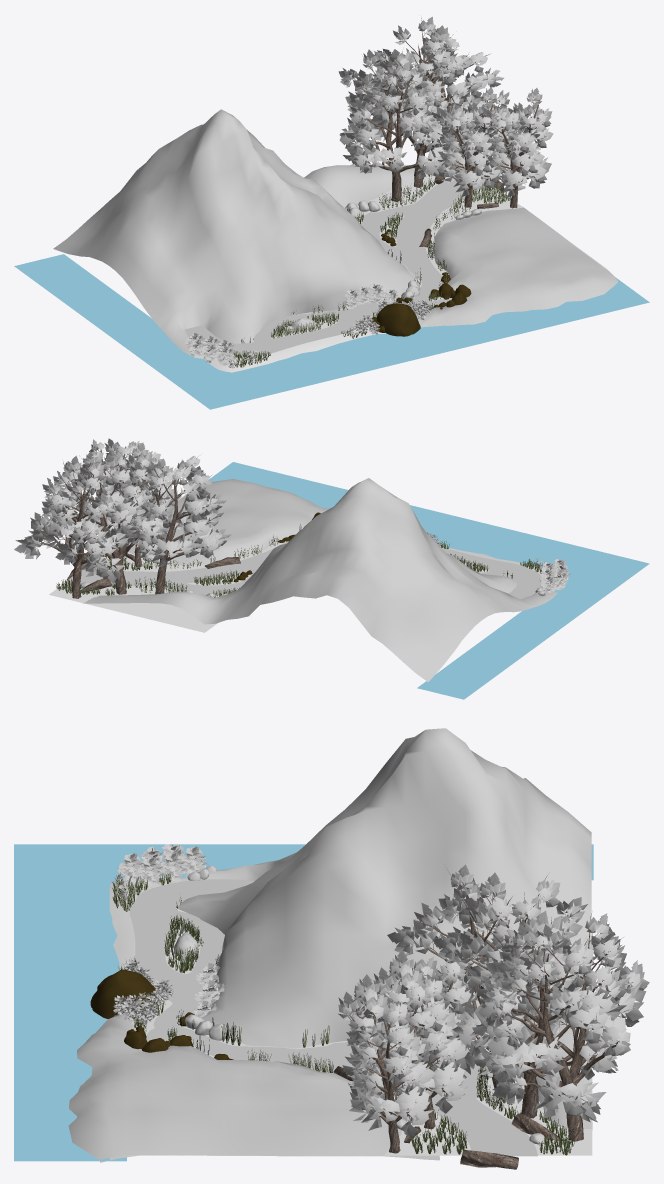
File: Escenario_v2.fbx
3 renders of one model, top to bottom at view 1: azimuth 30°, elevation 25°; view 2: azimuth 150°, elevation 25°; view 3: azimuth 270°, elevation 25°, orthographic. The views are drawn at different scales.
Visible parts, largest first — view 1: Montaña, Agua, arbol_01, Sendero, arbol 02, arbol 02.001, Suelo, arbol_01.001, arbol_01.002, Piedra Laguna 01.020; view 2: Montaña, Agua, arbol_01, arbol_01.002, arbol_01.001, Sendero, Suelo, arbol 02, arbol 02.001; view 3: Montaña, Agua, arbol_01.002, Sendero, arbol_01.001, arbol 02, arbol_01, arbol 02.001, Suelo, Piedra Laguna 01.020, tronco_suelto.003.
Boxes of the visible parts, x1=… form: Montaña: x1=53, y1=109, x2=618, y2=355; Agua: x1=14, y1=254, x2=649, y2=409; arbol_01: x1=338, y1=49, x2=462, y2=201; Sendero: x1=184, y1=170, x2=485, y2=356; arbol 02: x1=481, y1=88, x2=553, y2=208; arbol 02.001: x1=431, y1=87, x2=507, y2=207; Suelo: x1=184, y1=164, x2=610, y2=372; arbol_01.001: x1=366, y1=34, x2=487, y2=187; arbol_01.002: x1=371, y1=16, x2=503, y2=160; Piedra Laguna 01.020: x1=376, y1=303, x2=420, y2=336; Montaña: x1=83, y1=478, x2=557, y2=682; Agua: x1=209, y1=462, x2=649, y2=699; arbol_01: x1=123, y1=455, x2=231, y2=594; arbol_01.002: x1=14, y1=450, x2=131, y2=598; arbol_01.001: x1=53, y1=451, x2=174, y2=594; Sendero: x1=66, y1=541, x2=541, y2=599; Suelo: x1=49, y1=493, x2=568, y2=632; arbol 02: x1=89, y1=438, x2=160, y2=550; arbol 02.001: x1=112, y1=454, x2=181, y2=567; Montaña: x1=68, y1=728, x2=592, y2=1160; Agua: x1=14, y1=844, x2=593, y2=1161; arbol_01.002: x1=476, y1=913, x2=649, y2=1141; Sendero: x1=129, y1=879, x2=537, y2=1156; arbol_01.001: x1=433, y1=892, x2=630, y2=1118; arbol 02: x1=338, y1=974, x2=435, y2=1153; arbol_01: x1=387, y1=864, x2=598, y2=1088; arbol 02.001: x1=373, y1=950, x2=470, y2=1129; Suelo: x1=100, y1=878, x2=592, y2=1162; Piedra Laguna 01.020: x1=90, y1=969, x2=160, y2=1018; tronco_suelto.003: x1=460, y1=1149, x2=518, y2=1169.
Size of the model in its own units: 94126 by 30767 by 74069.
